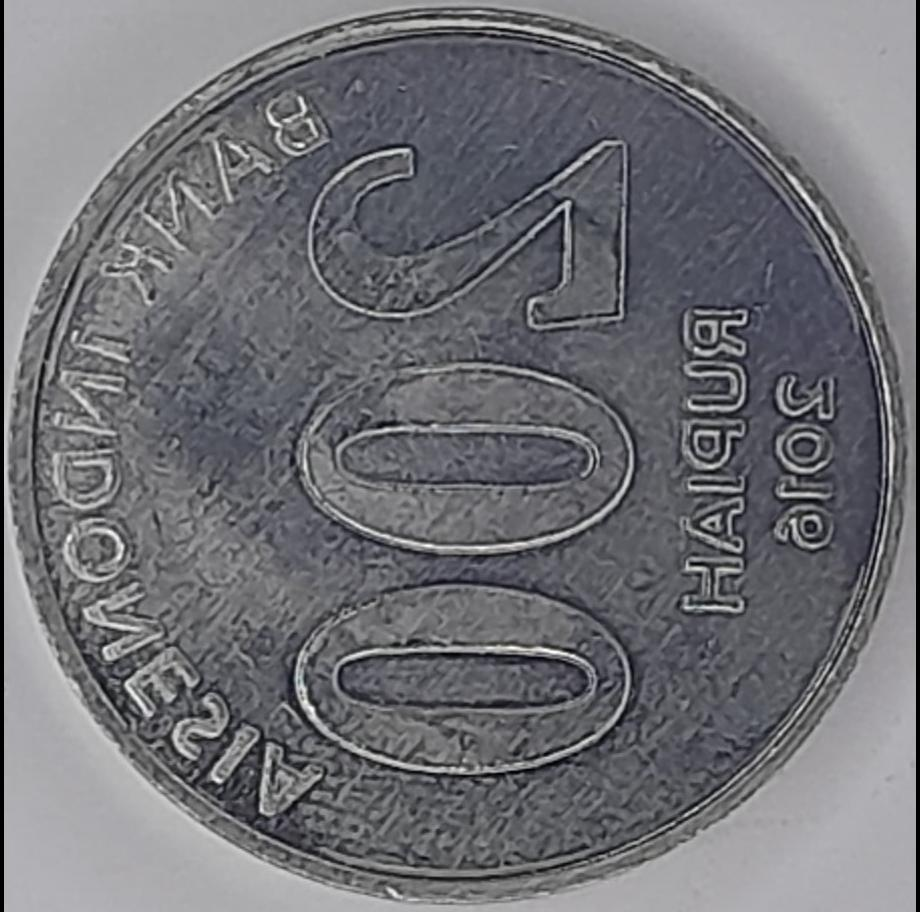coin_200_e2016: (0, 16, 920, 912)
